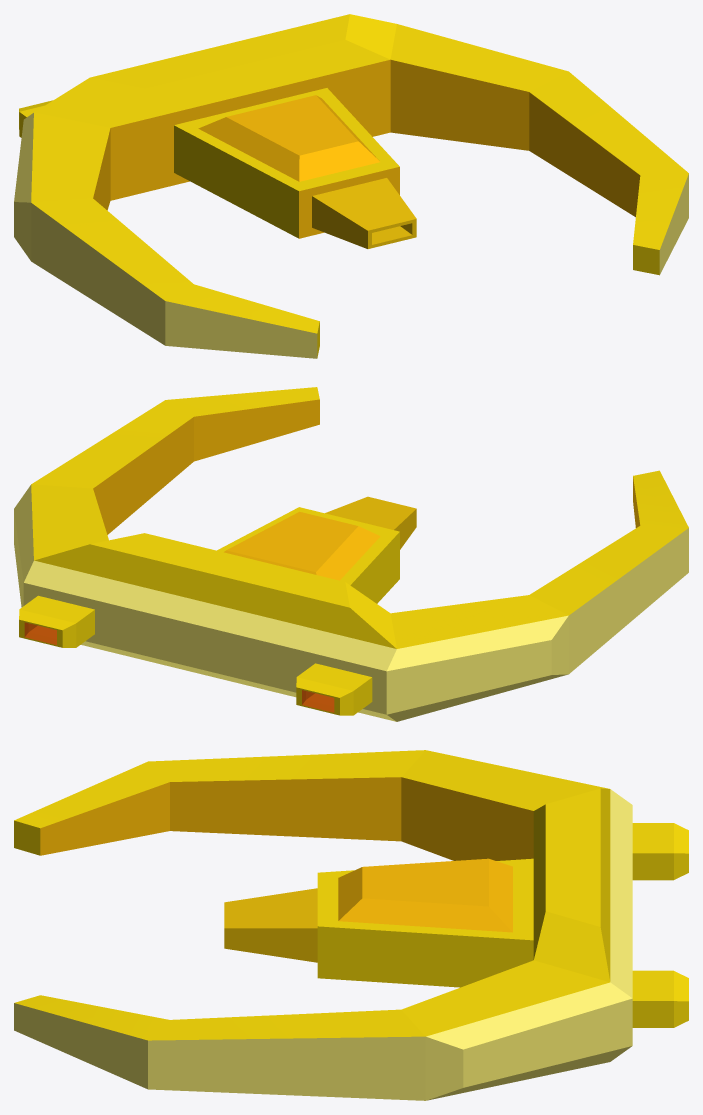
Rendered from Char_Spaceship_v2.0.fbx.
The picture shows the model from 3 angles, top to bottom: view 1: azimuth 30°, elevation 25°; view 2: azimuth 150°, elevation 25°; view 3: azimuth 270°, elevation 25°; orthographic projection. The views are drawn at different scales.
Visible parts, largest first — view 1: Spaceship; view 2: Spaceship; view 3: Spaceship.
Part boxes in pixels (left/top/right/bottom): Spaceship: left=14, top=14, right=688, bottom=358; Spaceship: left=14, top=387, right=688, bottom=721; Spaceship: left=14, top=750, right=688, bottom=1100.
Size of the model in its own units: 4.65 by 0.8135 by 4.63.
